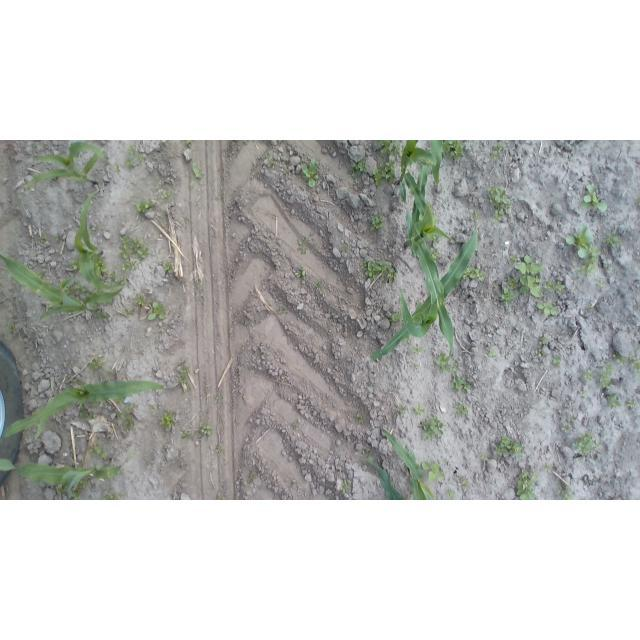Maize: (371, 210, 477, 362), (405, 152, 455, 365), (3, 379, 166, 443), (0, 250, 122, 320), (19, 140, 110, 212), (1, 451, 134, 493), (72, 190, 121, 291), (380, 426, 436, 500), (396, 140, 441, 186), (360, 457, 403, 500)
Weeds: (515, 255, 543, 298), (566, 224, 593, 259), (488, 184, 512, 223), (360, 261, 398, 284), (118, 233, 150, 260), (575, 247, 601, 278), (581, 185, 608, 213), (573, 432, 601, 457), (496, 435, 525, 457), (517, 470, 538, 500), (421, 413, 444, 439), (373, 161, 395, 188), (301, 157, 319, 187), (421, 461, 444, 484), (123, 144, 145, 168), (598, 363, 616, 390), (441, 140, 465, 160), (348, 159, 369, 181), (449, 374, 472, 394), (118, 404, 134, 430), (376, 140, 401, 156), (498, 288, 517, 307), (463, 267, 486, 282), (147, 302, 165, 320), (602, 232, 622, 248), (536, 300, 556, 316), (106, 270, 126, 286), (159, 412, 175, 432), (56, 487, 80, 500), (89, 442, 107, 459), (555, 485, 573, 500), (436, 353, 449, 373), (135, 199, 153, 213), (95, 254, 109, 272), (89, 356, 107, 370), (370, 215, 385, 231), (454, 402, 470, 417), (607, 394, 622, 409), (613, 351, 629, 365), (199, 422, 213, 437), (121, 259, 137, 272), (630, 351, 640, 371), (75, 283, 90, 296), (506, 277, 521, 290), (79, 476, 92, 489), (64, 282, 74, 298), (430, 248, 440, 264), (412, 403, 424, 416), (340, 479, 351, 493), (544, 279, 555, 293), (552, 355, 563, 369), (583, 369, 595, 381), (411, 343, 423, 355), (192, 162, 201, 178), (80, 402, 89, 418), (180, 367, 189, 383), (555, 281, 565, 295), (276, 302, 287, 314), (267, 157, 279, 168), (195, 279, 204, 293), (625, 396, 635, 408), (70, 258, 80, 270), (389, 313, 403, 321), (71, 379, 85, 387), (396, 405, 406, 416), (162, 189, 173, 199), (446, 488, 457, 498), (298, 266, 307, 278), (489, 151, 501, 160), (135, 295, 145, 305), (165, 262, 174, 273), (462, 478, 471, 489), (7, 322, 15, 334), (562, 424, 572, 433), (543, 464, 553, 473), (314, 281, 323, 291), (297, 246, 307, 255), (509, 255, 518, 265), (93, 288, 105, 295), (102, 493, 114, 500), (450, 362, 459, 371), (535, 349, 545, 357), (494, 142, 504, 150), (488, 349, 498, 357), (357, 412, 364, 423), (182, 430, 191, 438), (248, 474, 256, 483), (216, 446, 223, 456), (105, 370, 116, 376), (474, 210, 482, 218), (36, 270, 44, 278), (86, 413, 94, 421), (539, 337, 547, 345), (567, 416, 577, 422), (115, 397, 125, 403), (115, 163, 121, 173), (215, 393, 221, 403), (580, 391, 588, 398), (481, 452, 488, 460), (298, 238, 306, 245), (433, 236, 439, 245), (38, 231, 44, 240), (367, 450, 373, 459), (405, 336, 412, 343), (418, 159, 424, 167), (116, 493, 124, 499), (457, 277, 462, 286), (342, 246, 349, 252), (181, 357, 188, 363), (588, 304, 594, 311), (597, 280, 604, 286), (187, 141, 193, 148), (55, 235, 61, 242), (190, 181, 195, 189), (218, 496, 227, 500), (413, 364, 420, 369), (187, 387, 192, 394), (182, 391, 187, 398), (284, 169, 290, 174), (184, 215, 190, 220), (160, 214, 166, 219), (637, 195, 640, 205), (123, 311, 129, 316), (150, 405, 155, 411), (215, 196, 220, 201), (607, 267, 613, 271), (66, 360, 70, 365), (516, 373, 520, 377), (92, 227, 97, 230), (638, 344, 640, 350), (638, 372, 640, 378), (446, 459, 450, 462)
